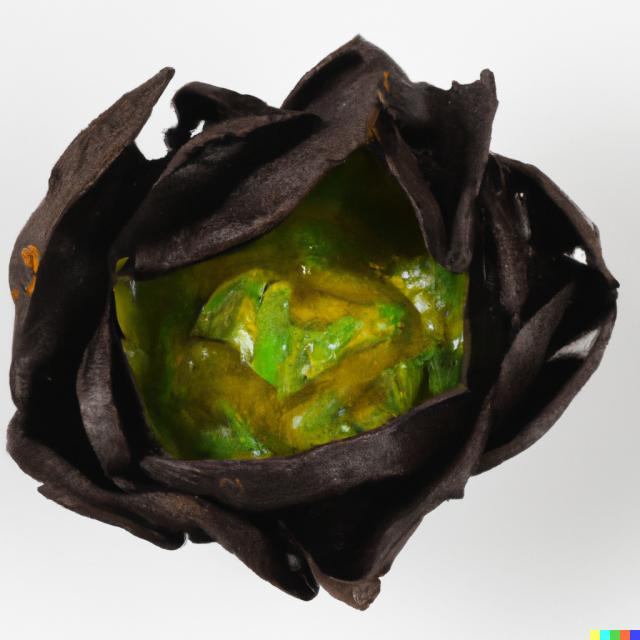-K: (0, 26, 640, 624)
